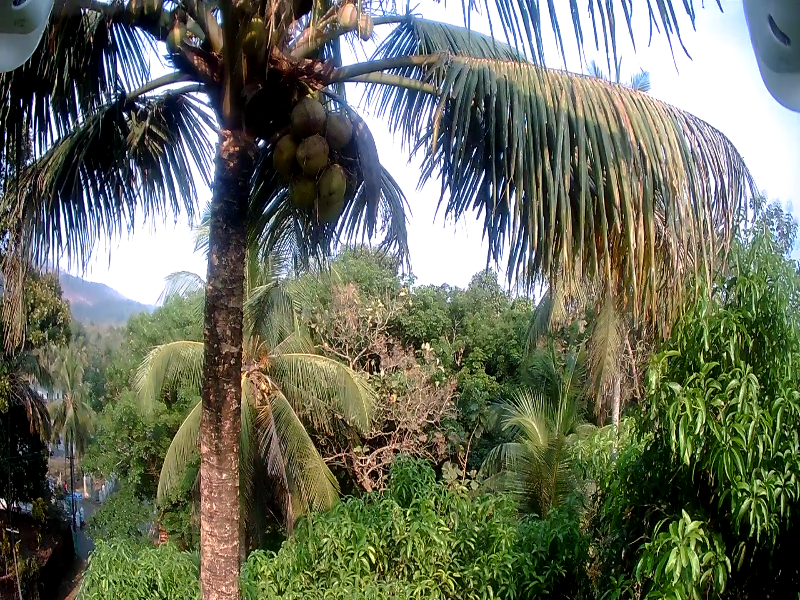coconut: (167, 27, 195, 57), (301, 140, 328, 169), (328, 114, 354, 142), (321, 197, 347, 223), (321, 168, 345, 196), (287, 178, 311, 205), (294, 98, 318, 121), (357, 12, 373, 43), (339, 6, 355, 30), (281, 140, 297, 158)
